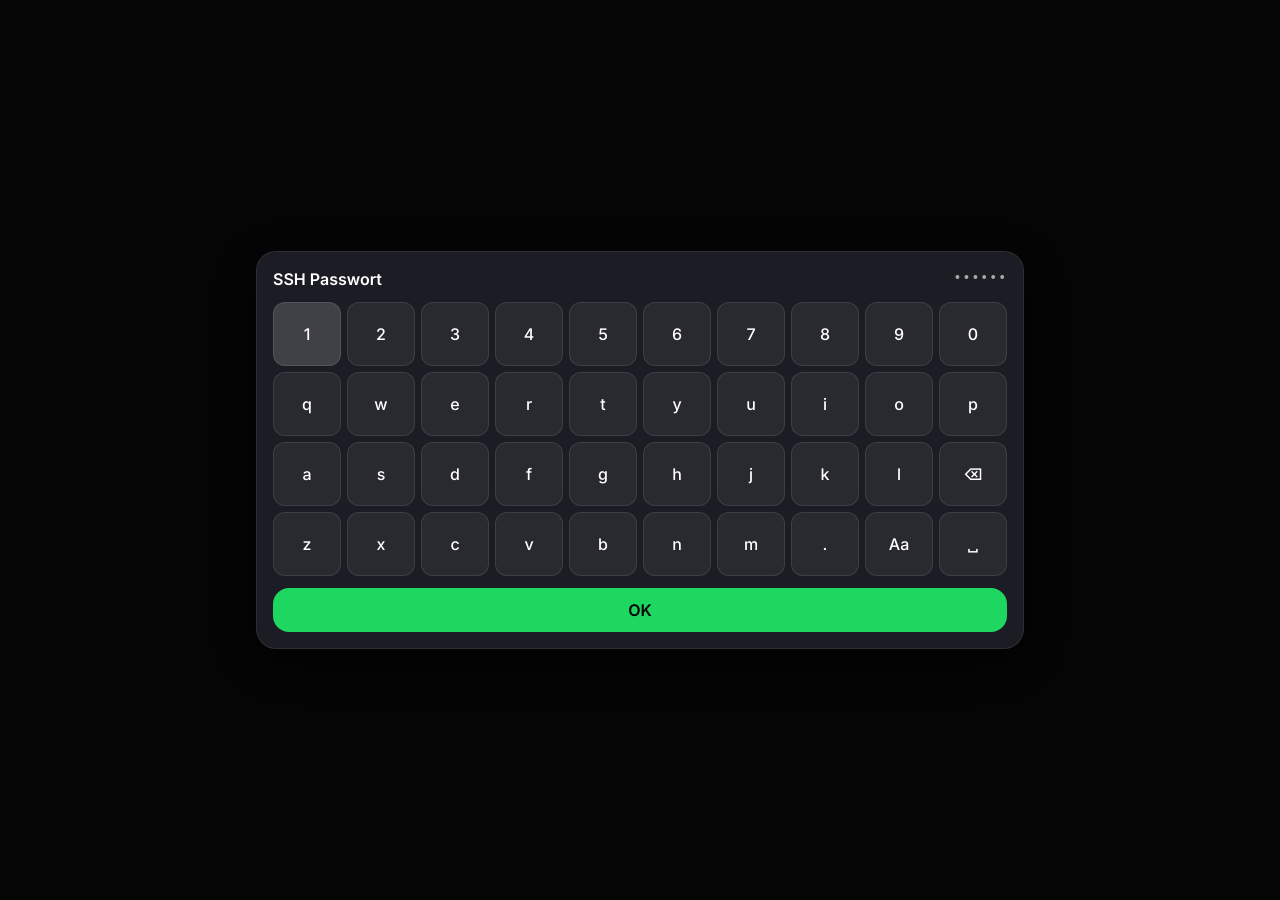
Test: PiKeyboardOverlay (ticket10-2) › keeps the password masked in the preview and routes characters to it
Expected: the text "••••••" is shown, [953, 269, 1007, 289]
Click the button "5" at (603, 334), box [569, 302, 637, 366]
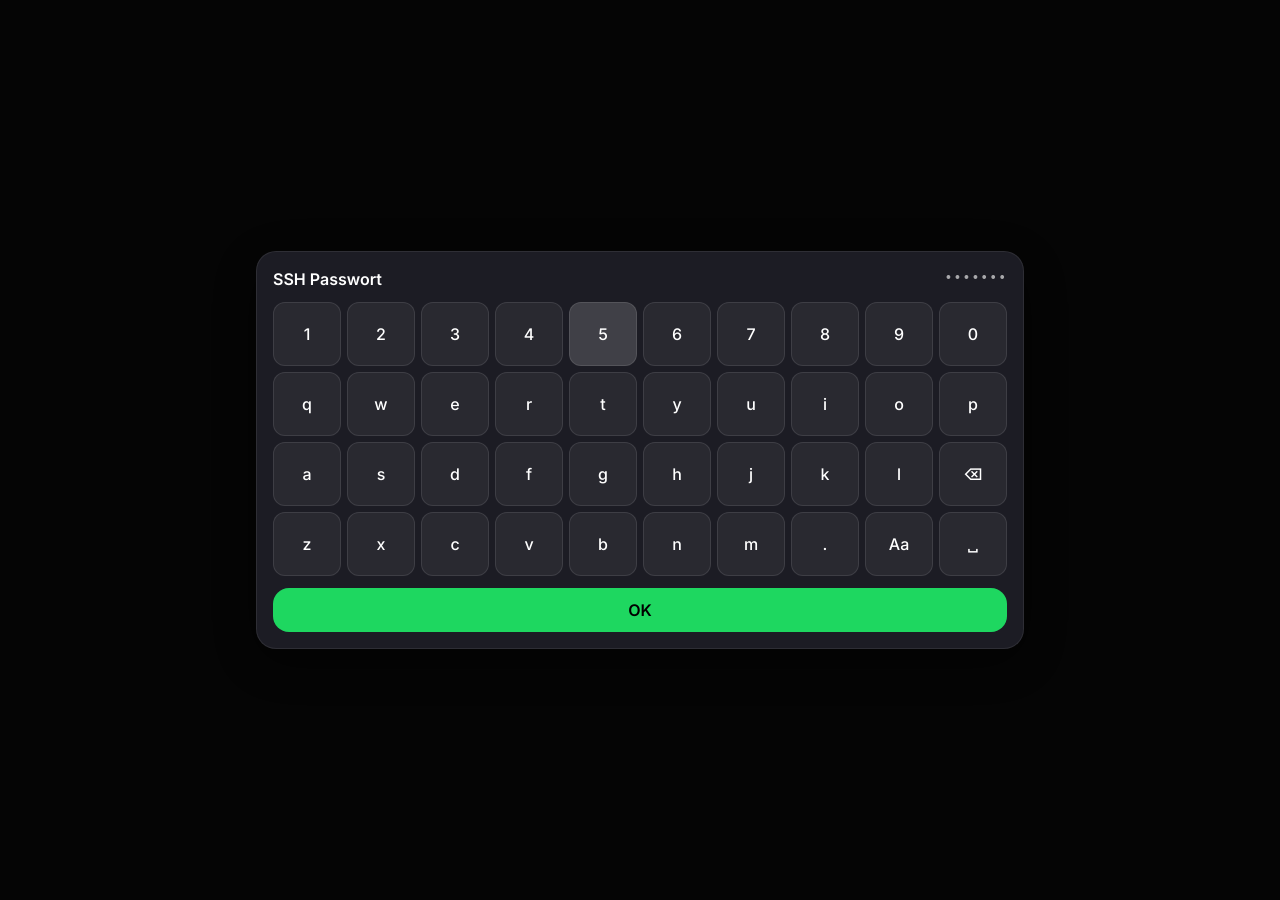
Expected: the text "•••••••" is shown, [944, 269, 1007, 289]
